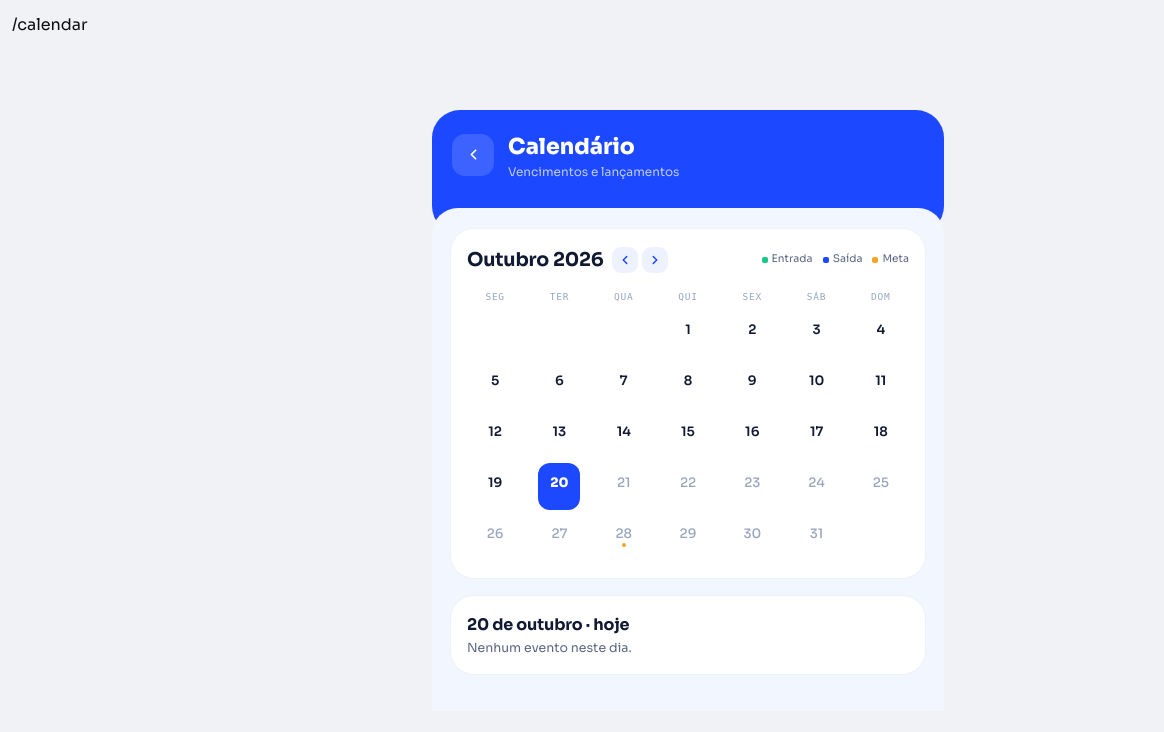
Calendário — mês e dias › prazo de meta aparece com bolinha própria e a legenda "Meta"
The width and height of the screenshot is (1164, 732).
Expected: the text "Meta" is shown, [872,251,909,268]
Click the button "28" at [624, 538], box [603,514,645,561]
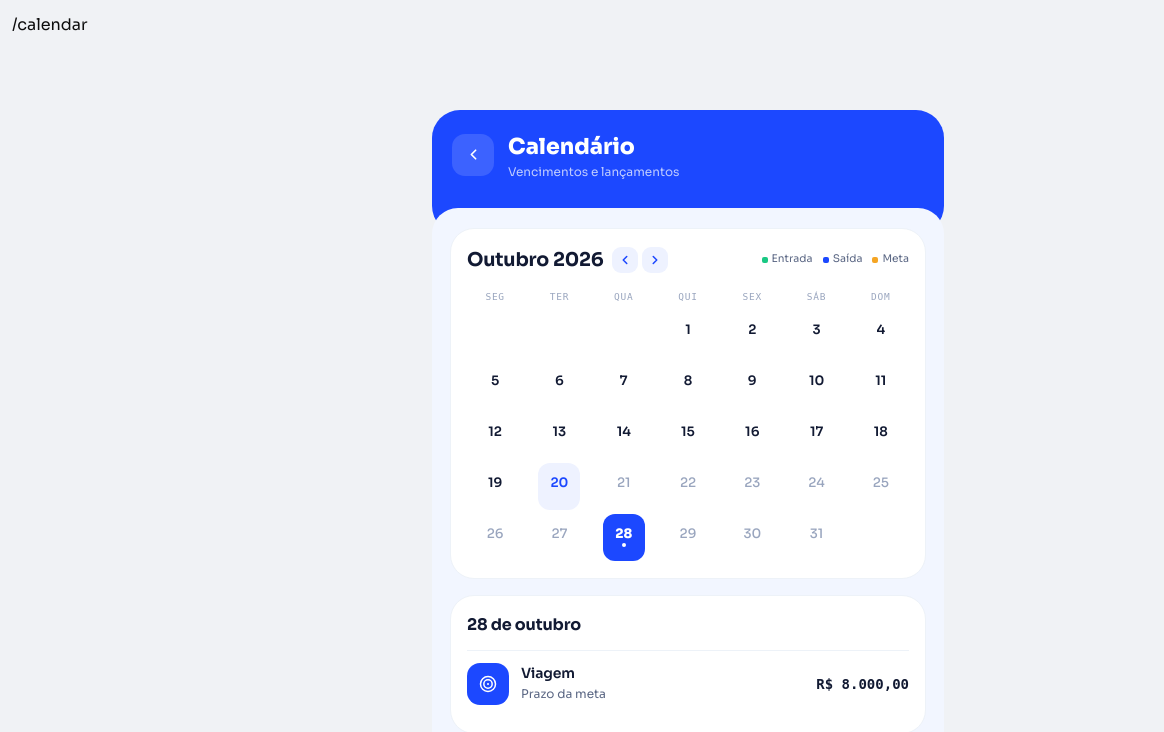
Expected: the text "Viagem" is shown, [521,664,575,682]
Expected: the text "Prazo da meta" is shown, [521,686,606,701]
